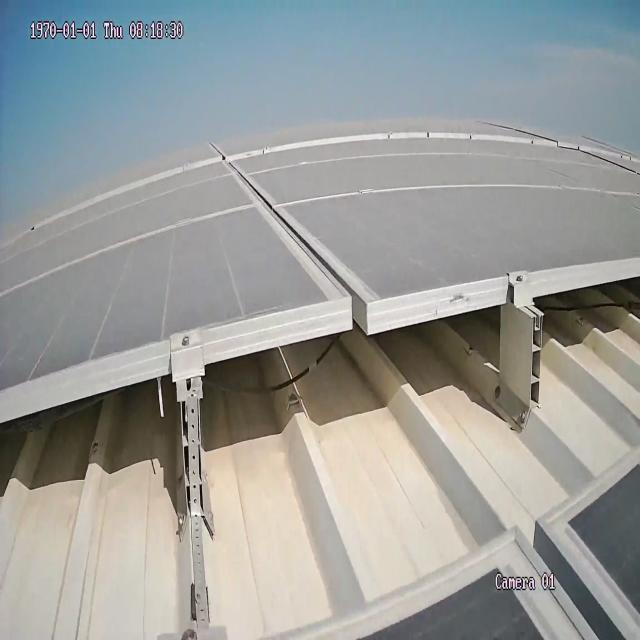interior panel: (223, 162, 372, 296)
outher panel: (0, 256, 638, 640)
